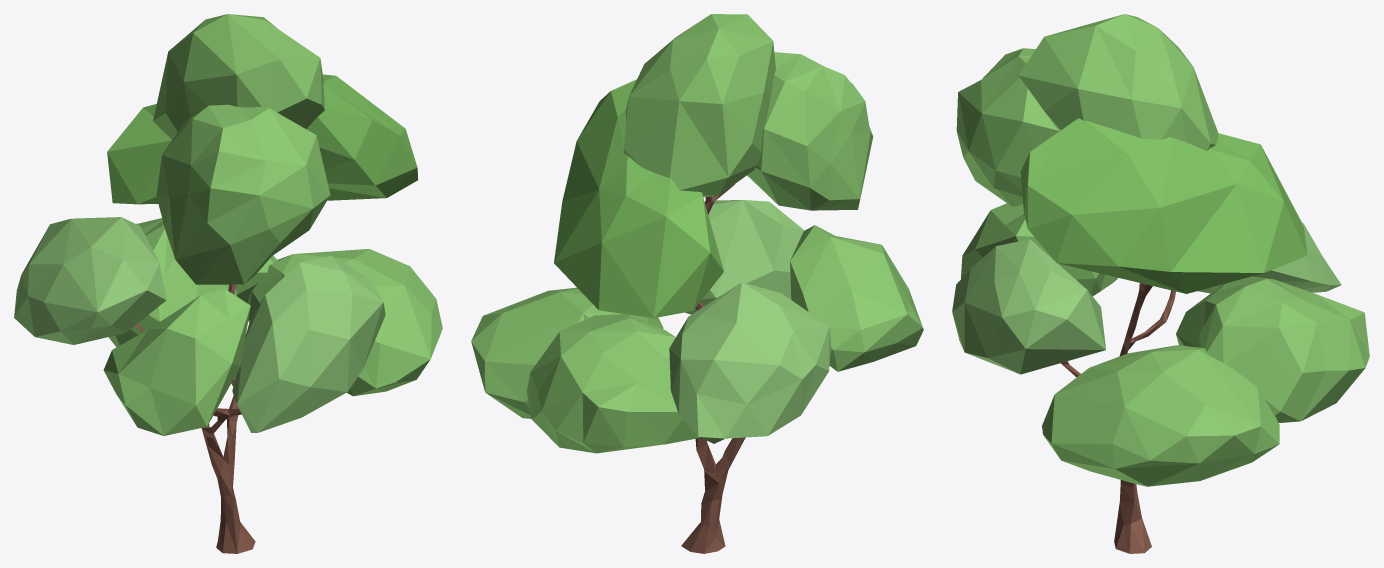
The model's file is tree.glb.
The picture shows the model from 3 angles, left to right: view 1: azimuth 30°, elevation 25°; view 2: azimuth 150°, elevation 25°; view 3: azimuth 270°, elevation 25°; orthographic projection. The views are drawn at different scales.
Parts seen in each view (by area): view 1: tree_001.002; view 2: tree_001.002; view 3: tree_001.002.
Boxes of the visible parts, <box> form: tree_001.002: <box>14,14,442,553</box>; tree_001.002: <box>471,14,923,553</box>; tree_001.002: <box>952,14,1369,553</box>.
Size of the model in its own units: 5.8 by 7.86 by 5.67.
Materials: 1 (1 with a texture image).
